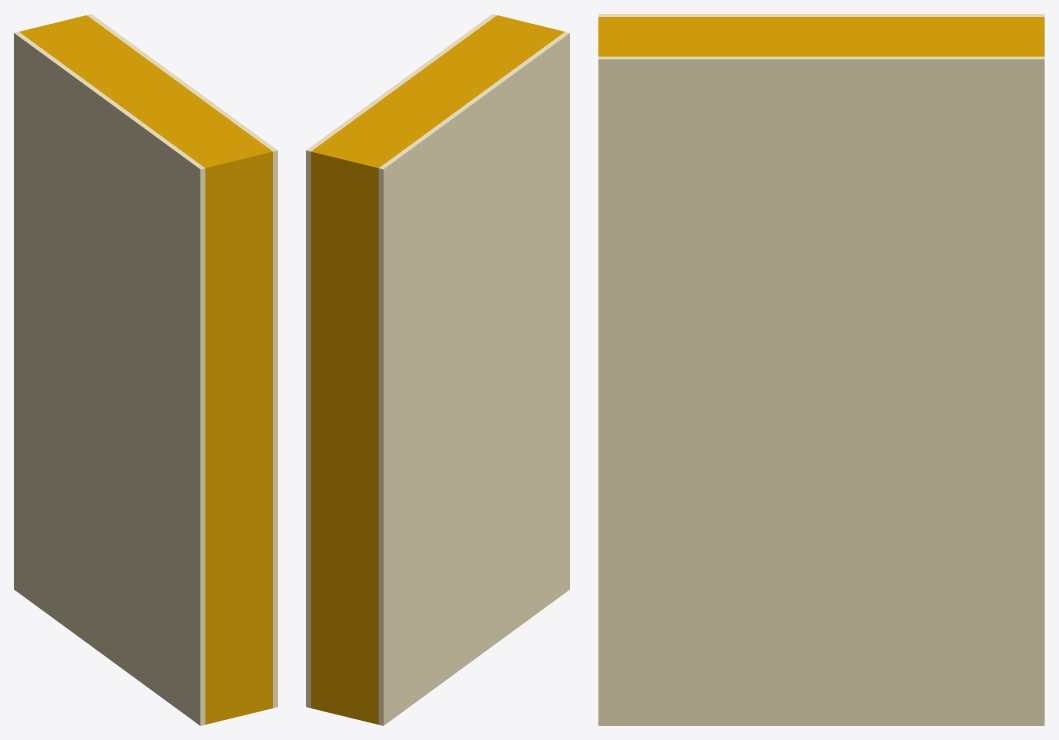
The model's file is WALL.glb.
The picture shows the model from 3 angles, left to right: view 1: azimuth 30°, elevation 25°; view 2: azimuth 150°, elevation 25°; view 3: azimuth 270°, elevation 25°; orthographic projection. The views are drawn at different scales.
Visible parts, largest first — view 1: 28_30 W; view 2: 28_30 W; view 3: 28_30 W.
Boxes of the visible parts, x1=… form: 28_30 W: x1=14, y1=14, x2=277, y2=725; 28_30 W: x1=306, y1=14, x2=569, y2=725; 28_30 W: x1=598, y1=14, x2=1044, y2=725.
Size of the model in its own units: 30.03 by 206 by 125.
